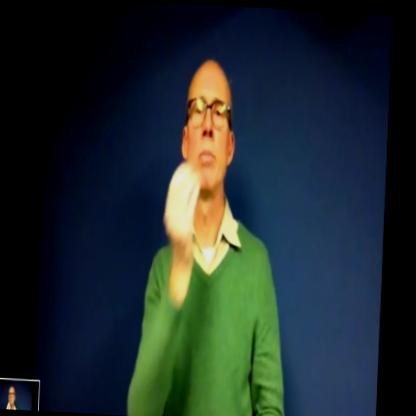Food: (150, 43, 256, 286)
